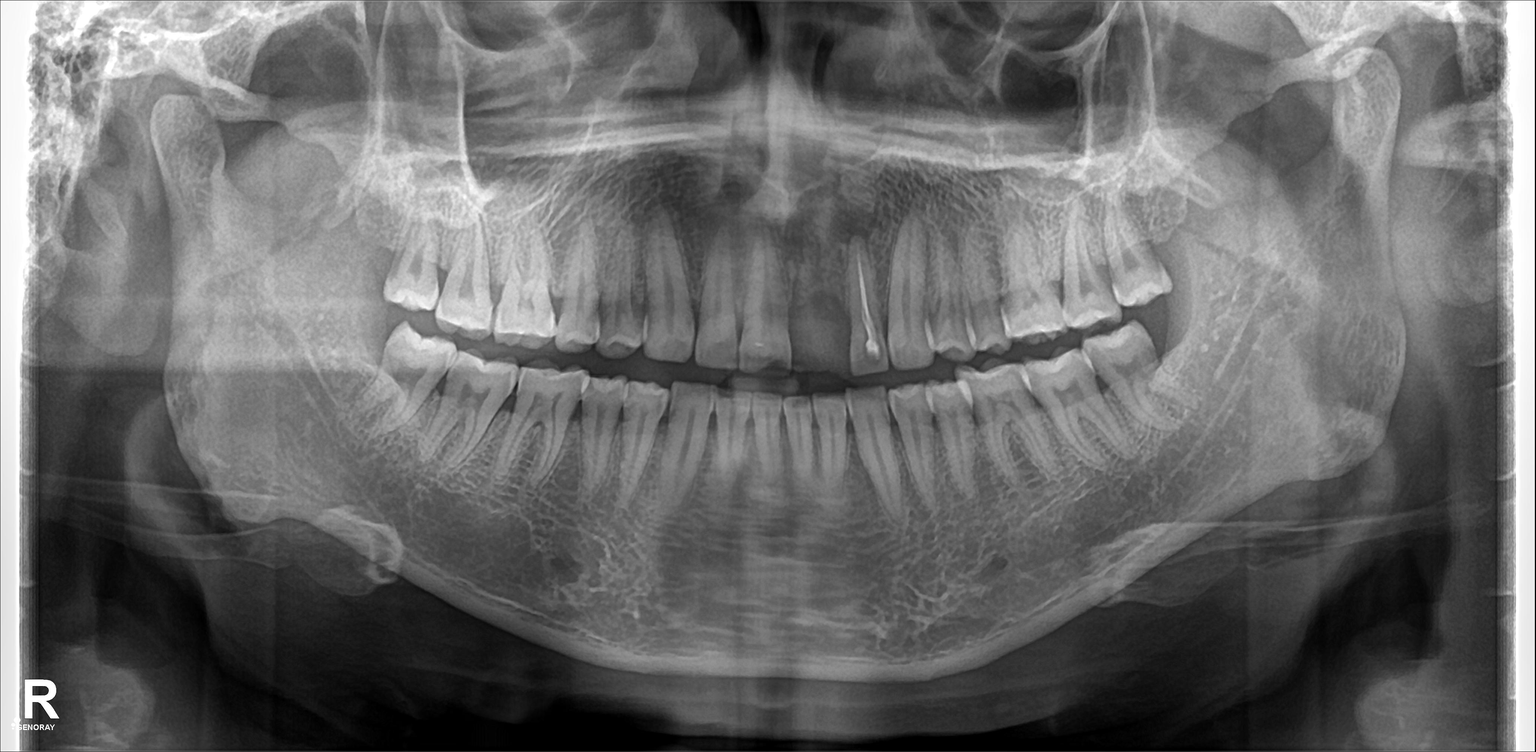Endodontically Treated Tooth: (845, 248, 895, 380)
Missing Tooth: (795, 246, 851, 371)
